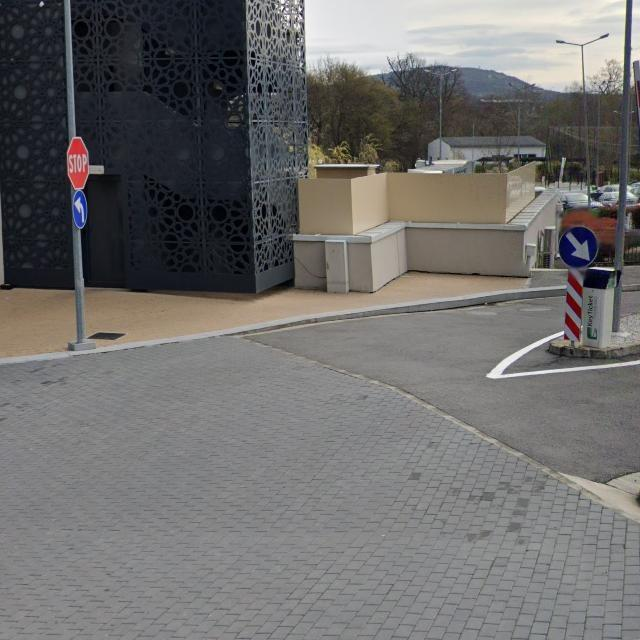prio_stop: (66, 136, 90, 190)
